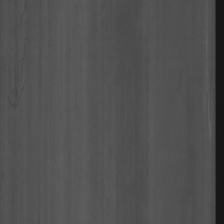water_spot: (6, 35, 28, 111)
